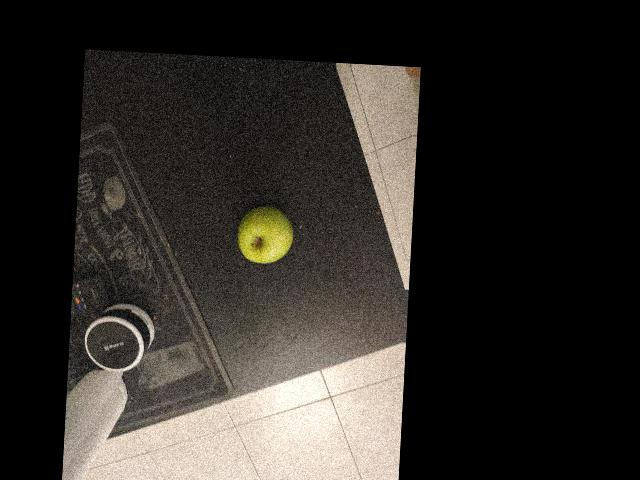apple: (296, 324, 384, 406)
